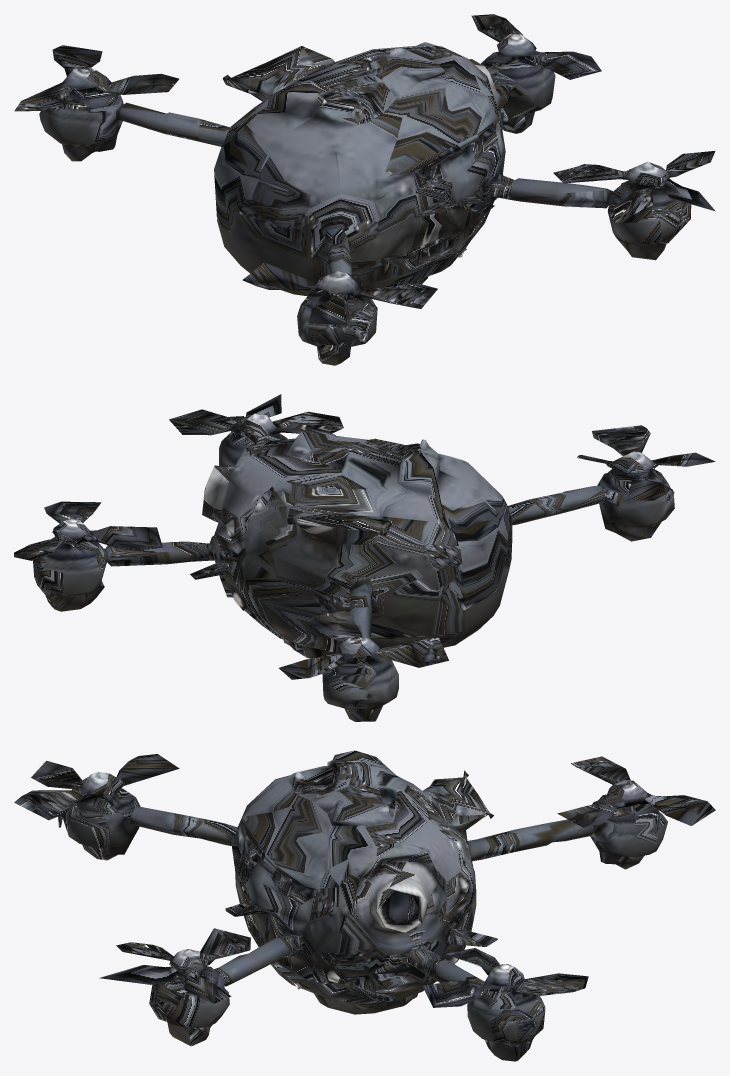
The model's file is watch_drone.glb.
The picture shows the model from 3 angles, top to bottom: view 1: azimuth 30°, elevation 25°; view 2: azimuth 150°, elevation 25°; view 3: azimuth 270°, elevation 25°; orthographic projection. The views are drawn at different scales.
Parts seen in each view (by area): view 1: tripo_node_25f8add7-4c7e-43aa-9a27-f43c155e943f; view 2: tripo_node_25f8add7-4c7e-43aa-9a27-f43c155e943f; view 3: tripo_node_25f8add7-4c7e-43aa-9a27-f43c155e943f.
Boxes of the visible parts, x1,y1,x2,y2 form: tripo_node_25f8add7-4c7e-43aa-9a27-f43c155e943f: (14, 14, 715, 365); tripo_node_25f8add7-4c7e-43aa-9a27-f43c155e943f: (14, 394, 715, 721); tripo_node_25f8add7-4c7e-43aa-9a27-f43c155e943f: (14, 750, 715, 1061).
Size of the model in its own units: 0.801 by 0.3176 by 0.9994.
Materials: 1 (1 with a texture image).
